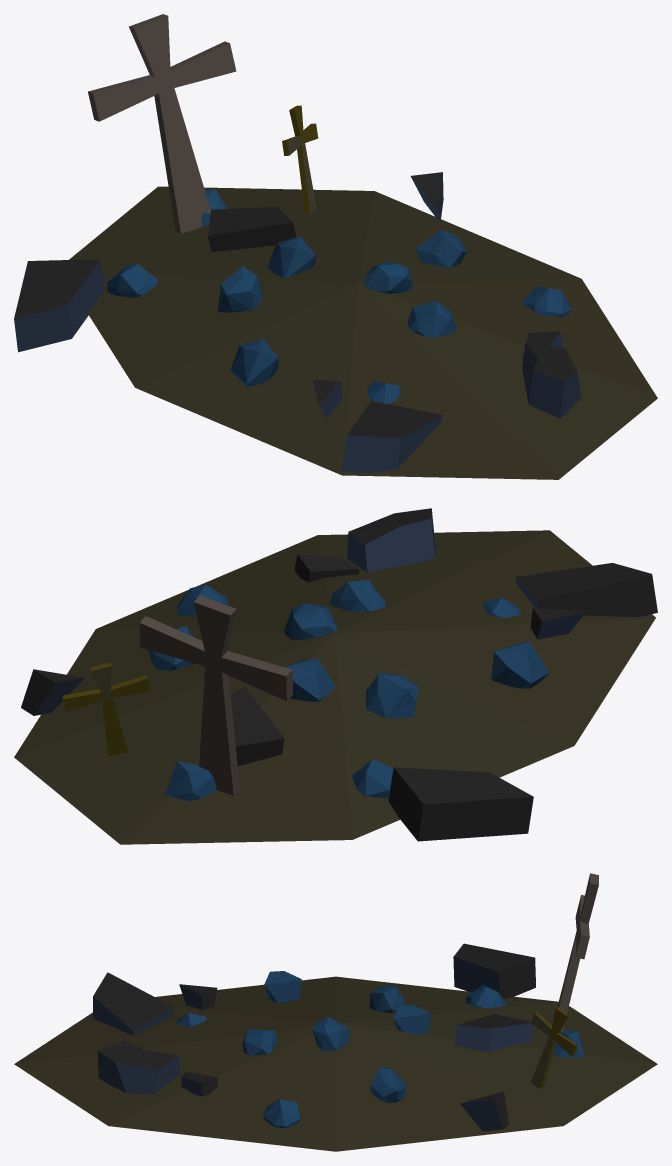
The model's file is Grave_2_MY.fbx.
3 renders of one model, top to bottom at view 1: azimuth 30°, elevation 25°; view 2: azimuth 150°, elevation 25°; view 3: azimuth 270°, elevation 25°, orthographic. The views are drawn at different scales.
Parts seen in each view (by area): view 1: Plane.008; view 2: Plane.008; view 3: Plane.008.
Part boxes in pixels (x1=…): Plane.008: x1=14, y1=14, x2=657, y2=479; Plane.008: x1=14, y1=508, x2=657, y2=844; Plane.008: x1=14, y1=873, x2=657, y2=1151.
Bounding box in the file's own units: 348 × 152 × 494.
